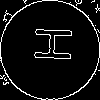H: (25, 25, 72, 63)
